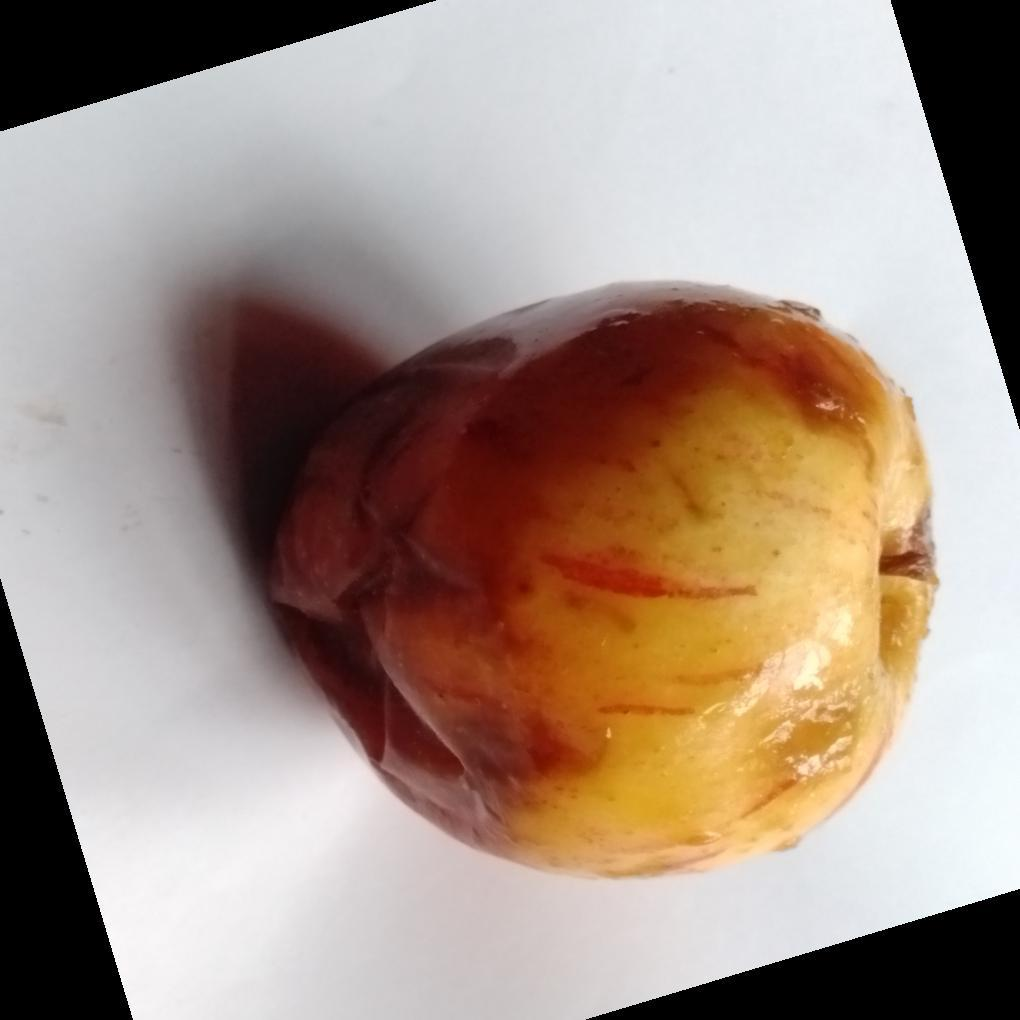FreshOrange: (262, 283, 940, 883)
